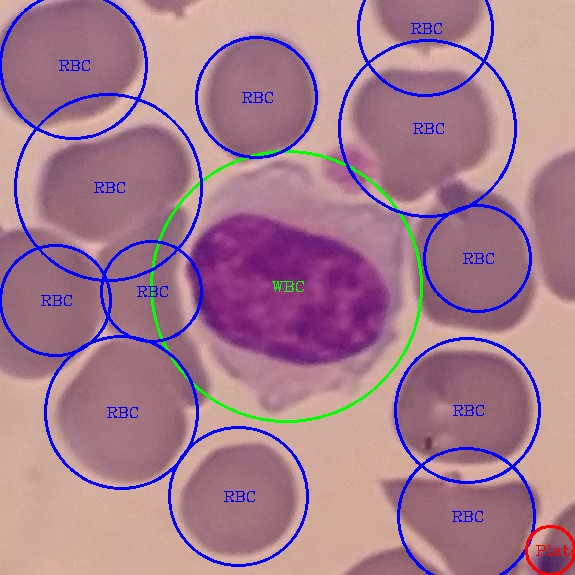Platelets: (318, 138, 379, 201)
RBC: (95, 212, 223, 421), (343, 59, 502, 204), (30, 115, 191, 249), (53, 330, 191, 486), (412, 179, 536, 337), (388, 340, 536, 469), (0, 1, 146, 131), (199, 25, 320, 167), (375, 470, 540, 573), (0, 225, 104, 381), (179, 438, 302, 559)
WBC: (172, 157, 417, 442)
